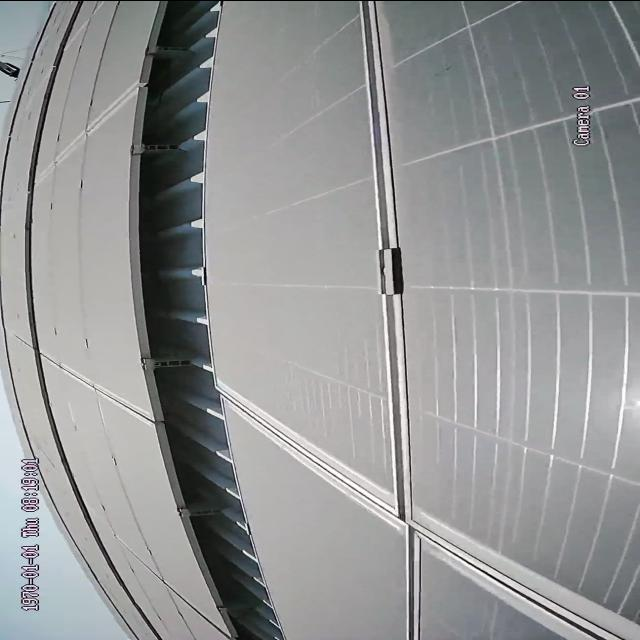interior panel: (235, 0, 640, 640), (114, 540, 216, 637), (43, 82, 133, 177), (46, 348, 142, 424)
outher panel: (132, 0, 287, 639)
